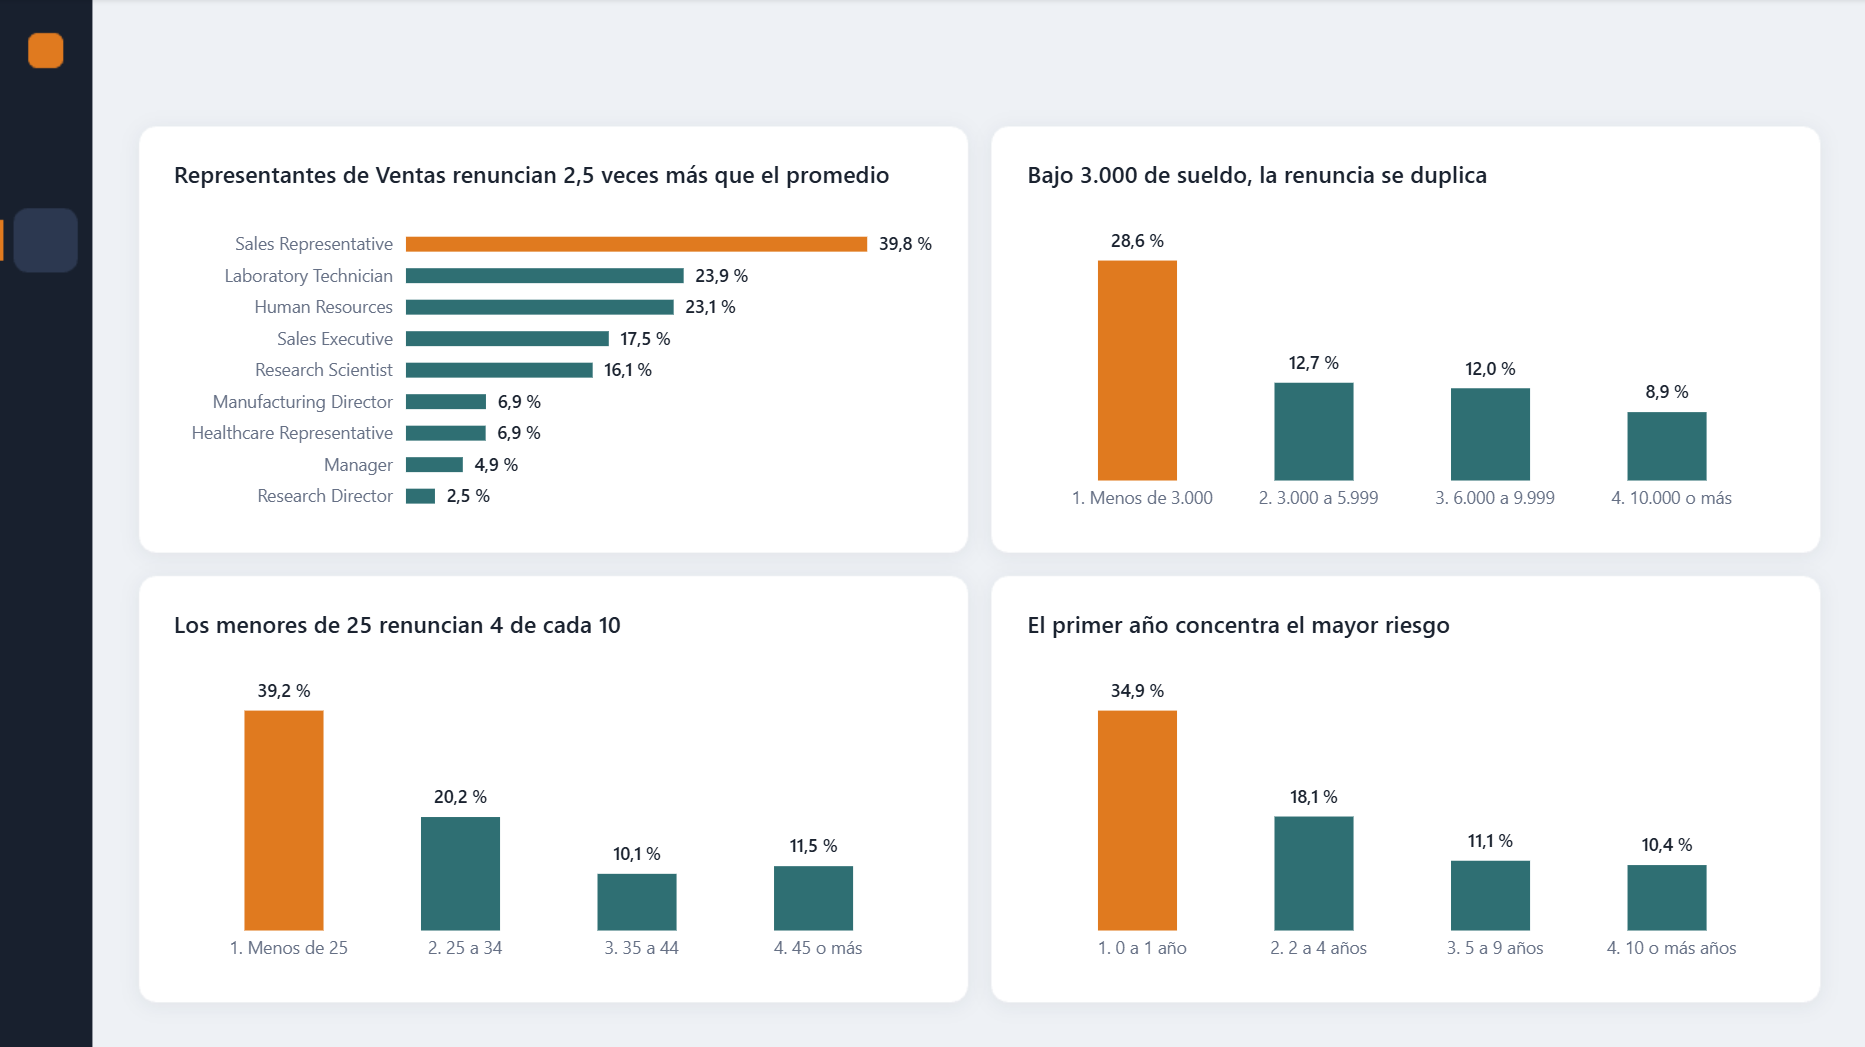

The dashboard page shown, as its layout file describes it:
{"tool":"powerbi","page":{"name":"Factores","canvas":[1280,720],"ordinal":1},"visuals":[{"type":"clusteredBarChart","title":"Representantes de Ventas renuncian 2,5 veces más que el promedio","fields":{"Category":["Empleados.JobRole"],"Y":["Empleados.Tasa de Renuncia"]},"box":[104,96,552,276],"z":0},{"type":"clusteredColumnChart","title":"Los menores de 25 renuncian 4 de cada 10","fields":{"Category":["Empleados.Tramo Edad"],"Y":["Empleados.Tasa de Renuncia"]},"box":[104,404,552,276],"z":1000},{"type":"clusteredColumnChart","title":"Bajo 3.000 de sueldo, la renuncia se duplica","fields":{"Category":["Empleados.Tramo Sueldo"],"Y":["Empleados.Tasa de Renuncia"]},"box":[688,96,552,276],"z":2000},{"type":"clusteredColumnChart","title":"El primer año concentra el mayor riesgo","fields":{"Category":["Empleados.Tramo Antiguedad"],"Y":["Empleados.Tasa de Renuncia"]},"box":[688,404,552,276],"z":3000}]}

Visuals, with their boxes on the page's 1280x720 design canvas (x1, y1, x2, y2). These are canvas units, not pixel positions in the 1865x1047 screenshot, which may show the page scaled, cropped or inside an application window:
"Representantes de Ventas renuncian 2,5 veces más que el promedio" clusteredBarChart: box(104, 96, 656, 372)
"Los menores de 25 renuncian 4 de cada 10" clusteredColumnChart: box(104, 404, 656, 680)
"Bajo 3.000 de sueldo, la renuncia se duplica" clusteredColumnChart: box(688, 96, 1240, 372)
"El primer año concentra el mayor riesgo" clusteredColumnChart: box(688, 404, 1240, 680)
